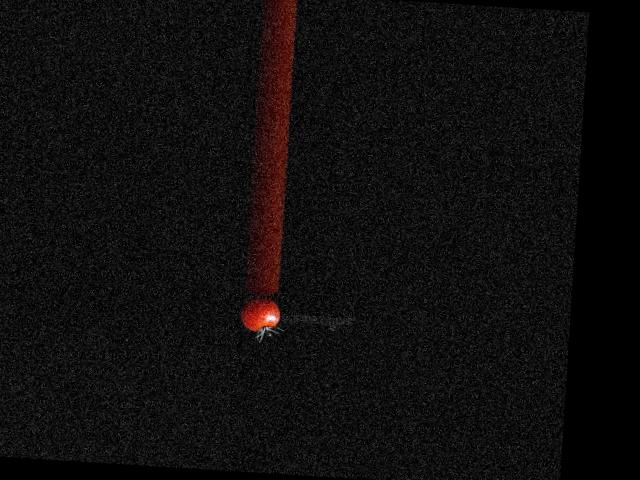tomato: (240, 296, 281, 332)
